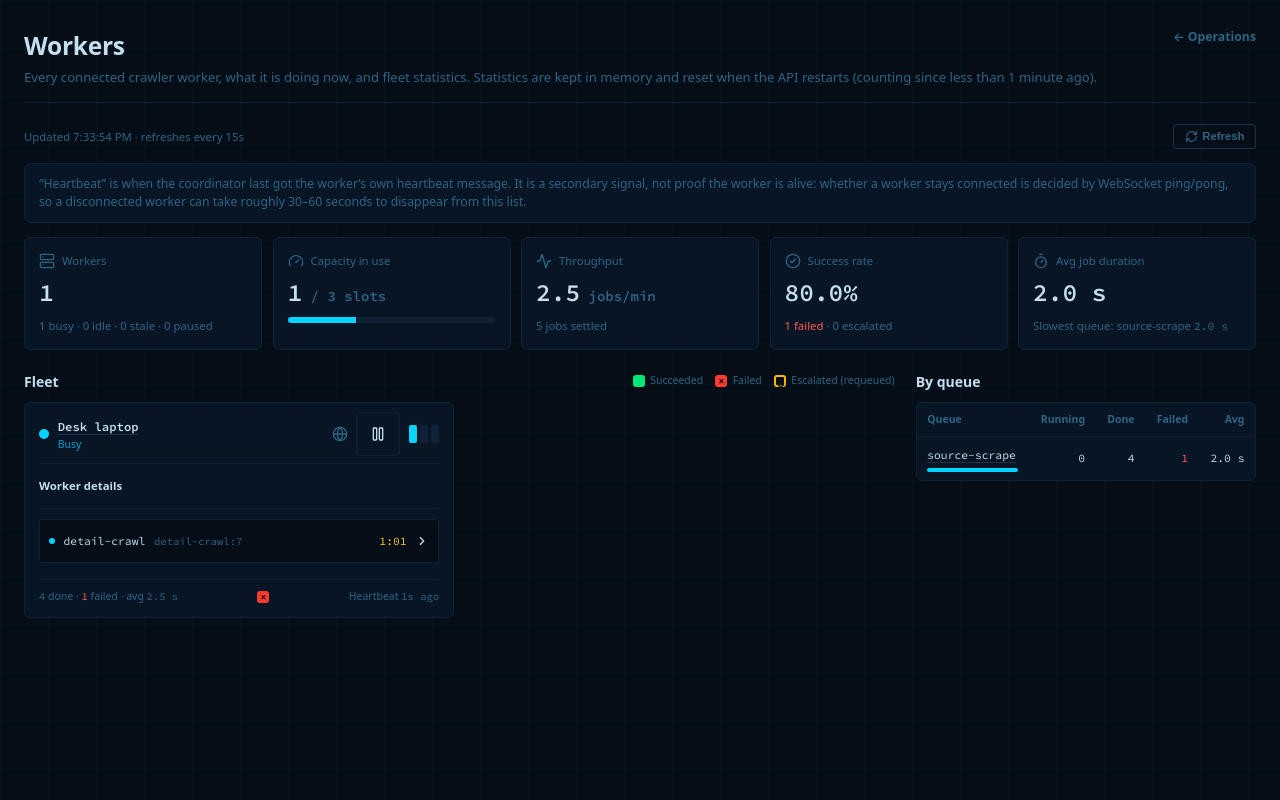
Scenario: WorkersClient › shows a not-reported state for a legacy worker without machine metadata
This screenshot has width=1280, height=800.
Expected: the link "Desk laptop" is shown, x1=58 y1=419 x2=139 y2=434
Click the heading "Worker details" at point(81, 486), box x1=39 y1=478 x2=122 y2=493
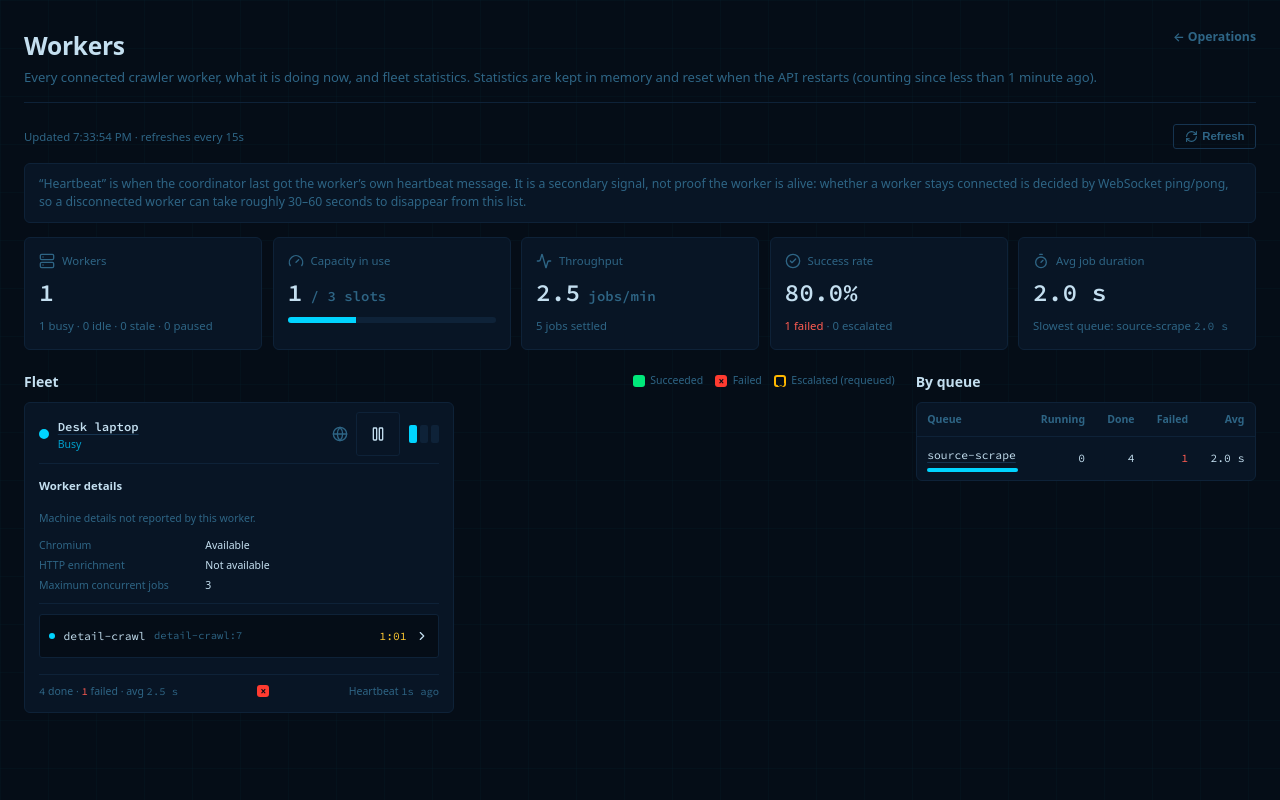
Now the text "Machine details not reported by this worker." is shown, box x1=39 y1=511 x2=256 y2=525
Now the text "Maximum concurrent jobs" is shown, box x1=39 y1=578 x2=169 y2=592
